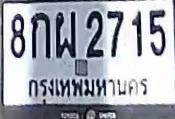1: (131, 10, 143, 57)
2: (86, 10, 103, 57)
5: (148, 9, 166, 56)
7: (106, 10, 124, 57)
8: (10, 13, 25, 58)
A01: (30, 12, 51, 59)
A28: (55, 11, 77, 59)
BKK: (22, 71, 150, 107)
